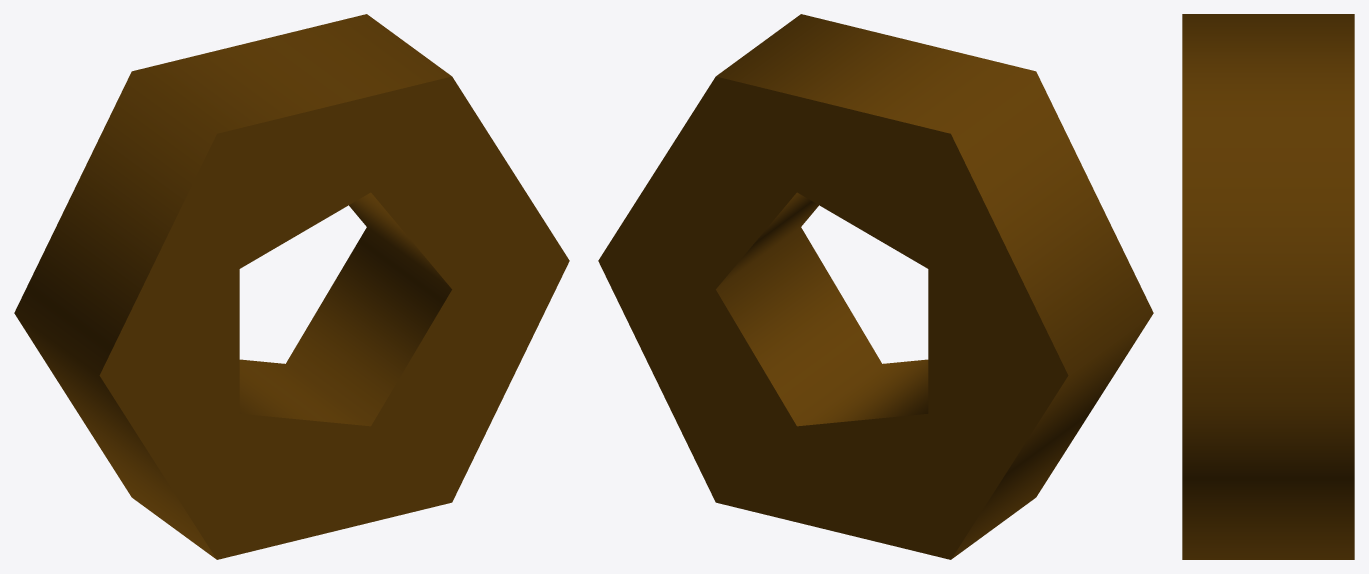
The model's file is Rondelle plaque cadran.obj.
3 views of the same model, side by side, from view 1: azimuth 30°, elevation 25°; view 2: azimuth 150°, elevation 25°; view 3: azimuth 270°, elevation 25° (orthographic).
Visible parts, largest first — view 1: Face_1, Face_3, Face_4; view 2: Face_2, Face_3, Face_4; view 3: Face_3.
Boxes of the visible parts, box(x1,y1,x2,y2) form: Face_1: box(99, 76, 569, 559); Face_3: box(14, 14, 451, 559); Face_4: box(239, 192, 451, 426); Face_2: box(598, 76, 1068, 559); Face_3: box(716, 14, 1153, 559); Face_4: box(716, 192, 928, 426); Face_3: box(1182, 14, 1354, 559).
Size of the model in its own units: 0.007 by 0.00606 by 0.0022.
